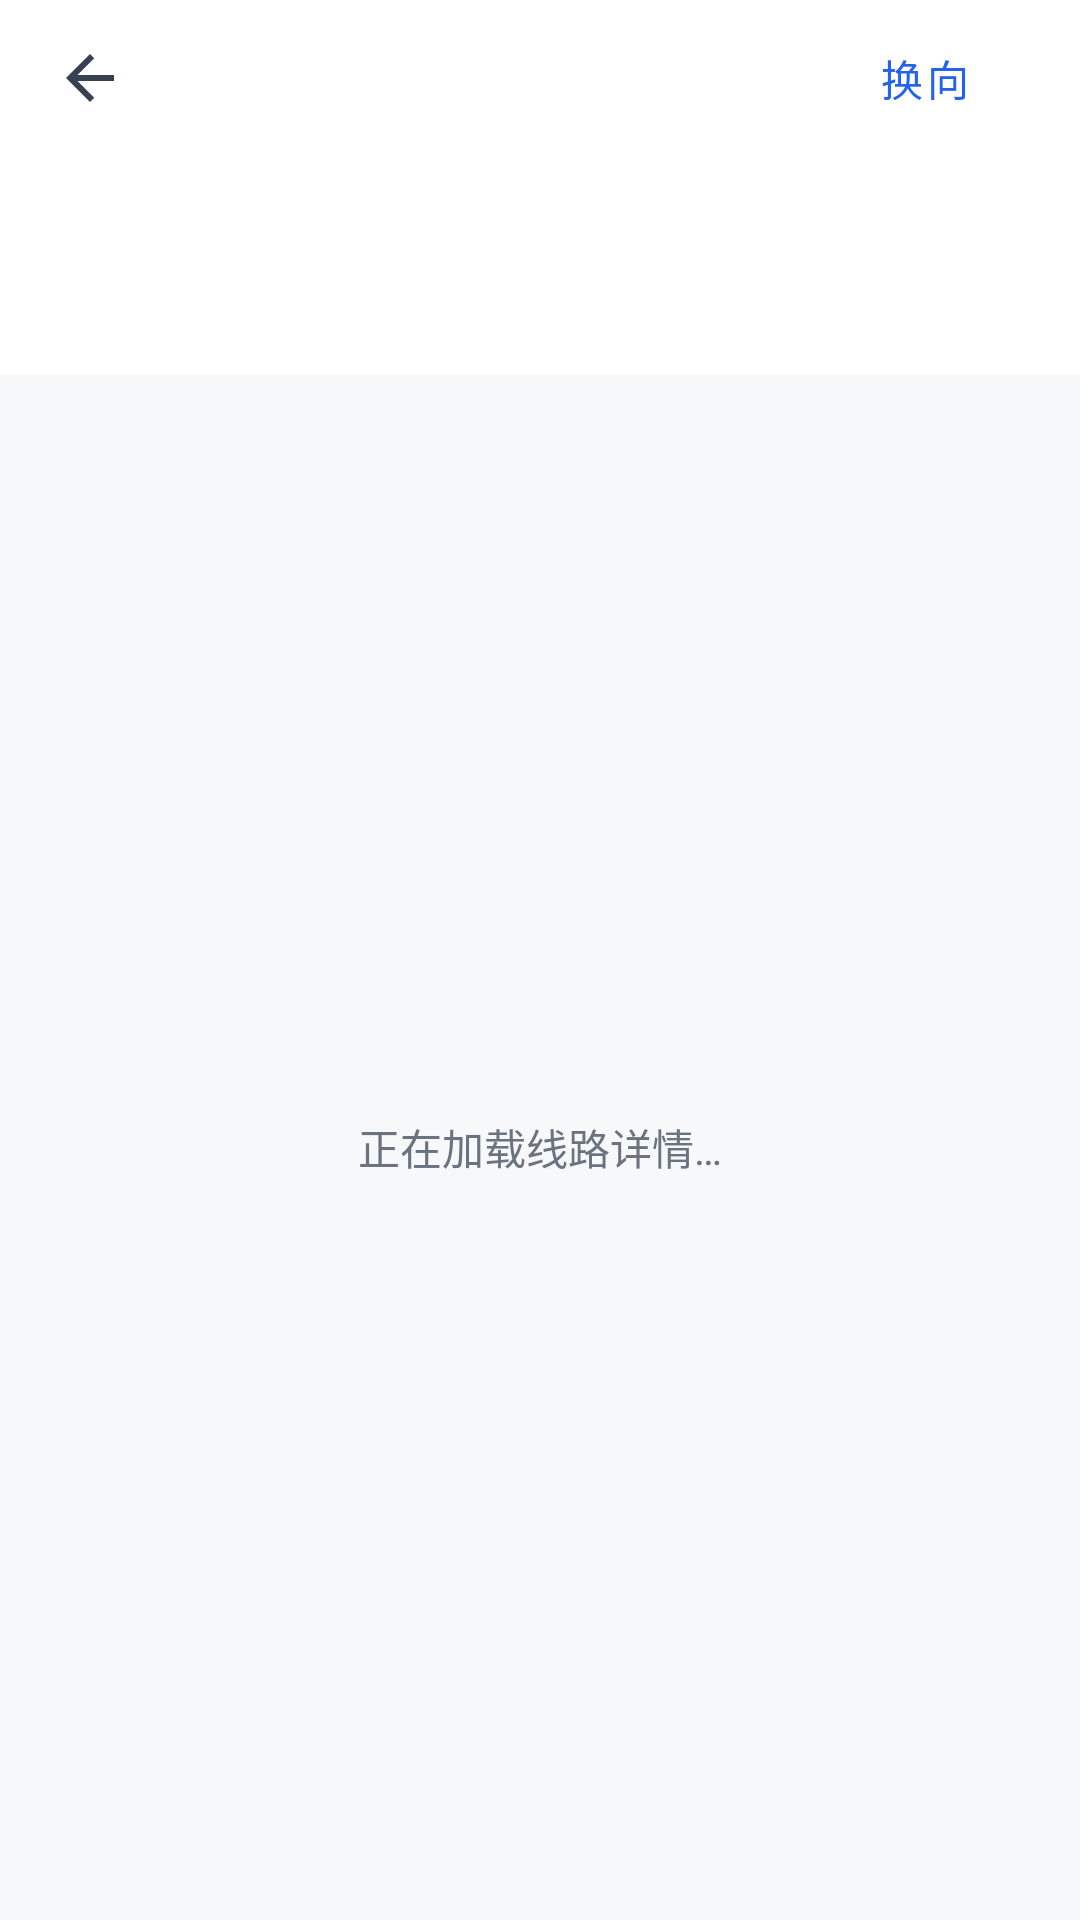

Screen size 1080px x 1920px. Icon name, then its center in pixels as (x,y):
返回: (90,78)
